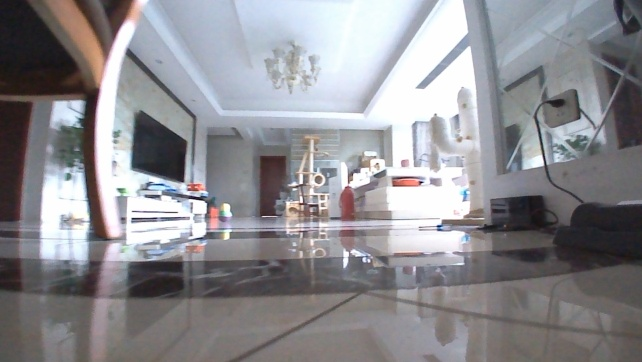TV_stand: (113, 188, 210, 225)
door_anno: (257, 155, 286, 220)
tea_table: (344, 161, 466, 221)
wire: (525, 94, 586, 203), (527, 205, 560, 230)
